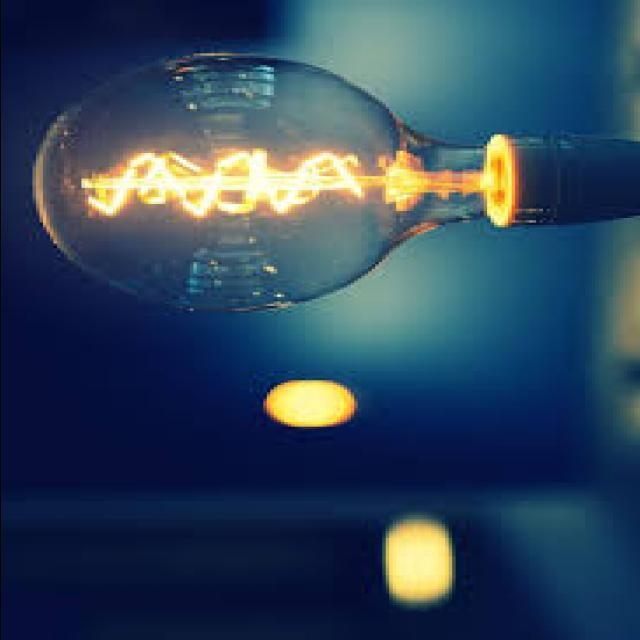light_bulb: (0, 48, 572, 324)
